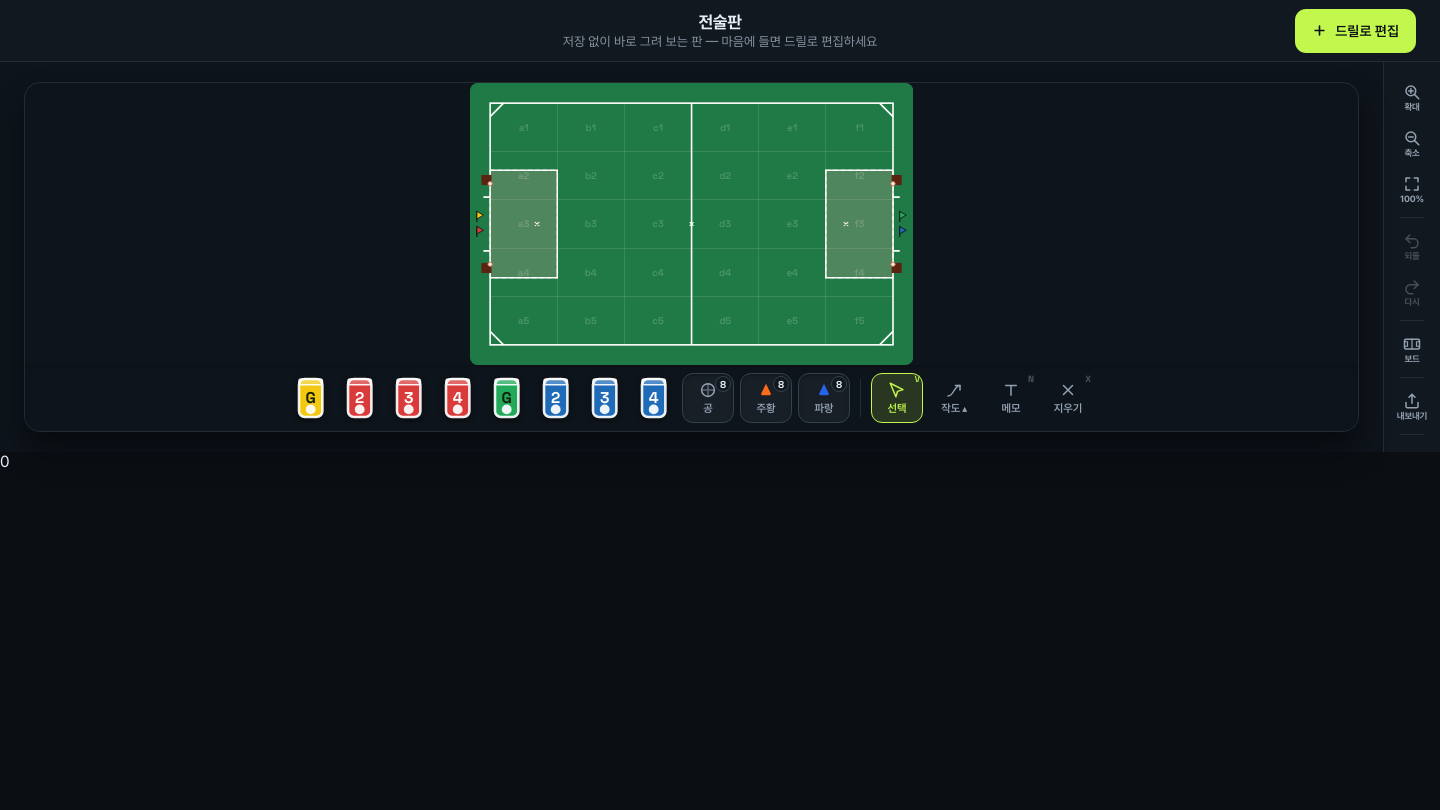
Test: 저장·재로딩을 건너도 코트 전환 게이트가 정확하다 (핵심 회귀) › 빈 판으로 저장된 판을 다시 열면 여전히 열려 있다 (게이트가 무조건 잠그는 것은 아니다)
Expected: the navigation bar named "도구" is shown, [25,365,1358,431]
Click the button with aria-label "보드 설정": (1412,349) [1390,327,1434,371]
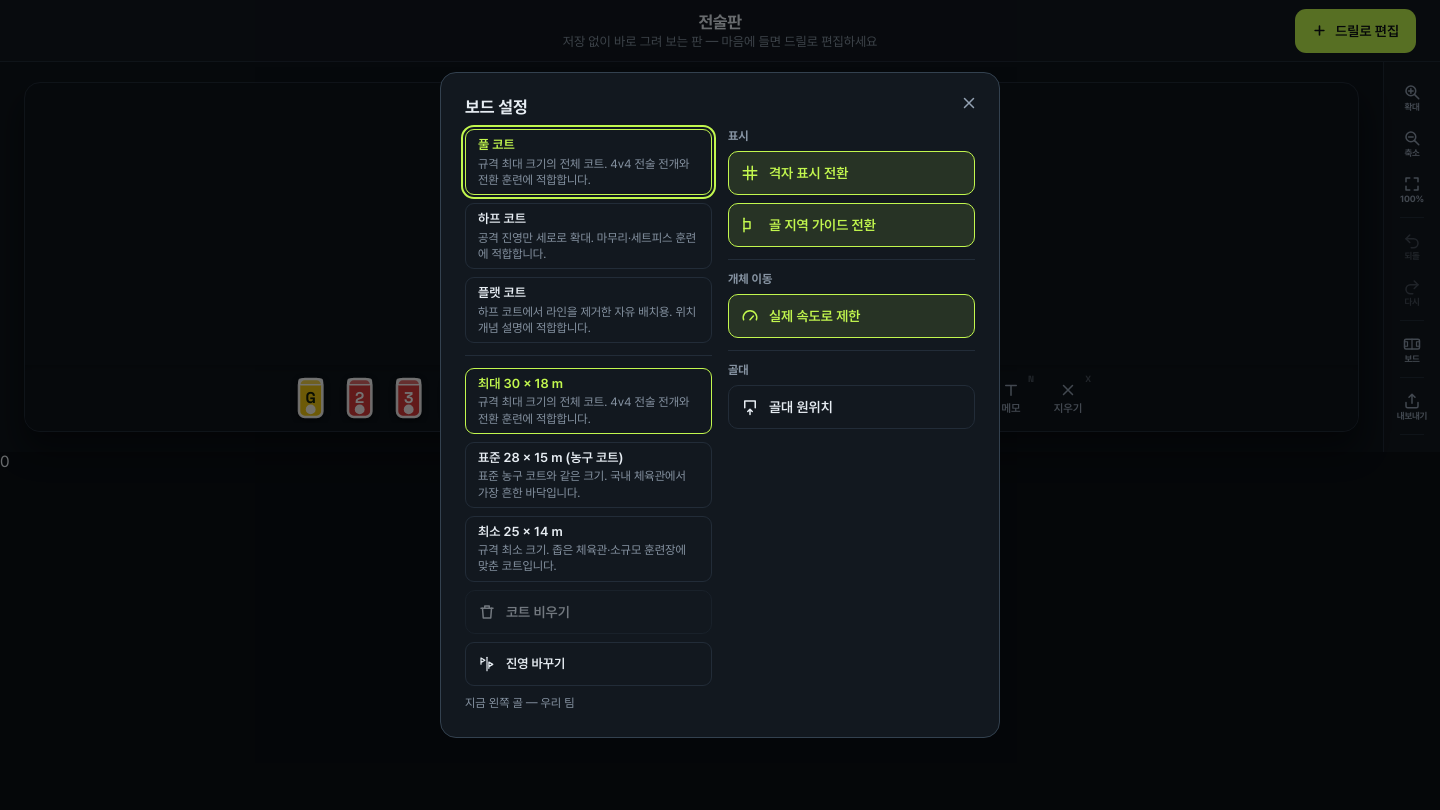
Expected: the element named "코트 형태" is shown, [465,129,712,343]
